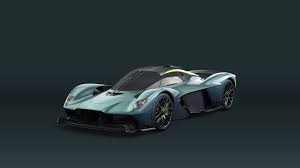car: (54, 59, 242, 134)
